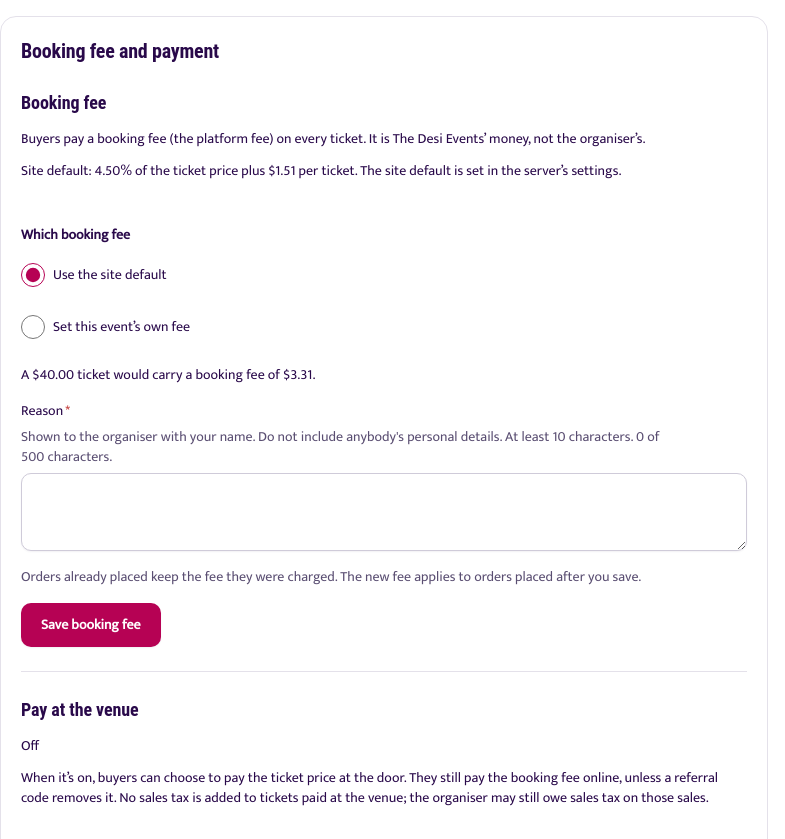
Test: the booking fee › shows the amount with its currency’s sign in front, and the reason’s description
Click the radio button labelled "Set this event’s own fee" at (33, 327), box [21,315,45,339]
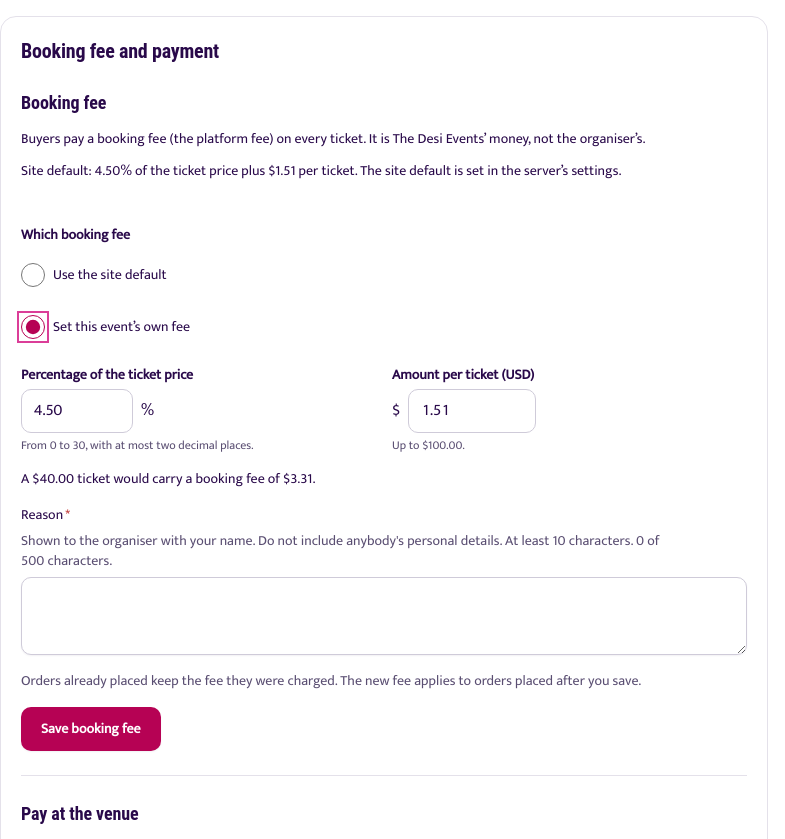
Expected: the element showing "$" is shown, [392,389,536,433]
